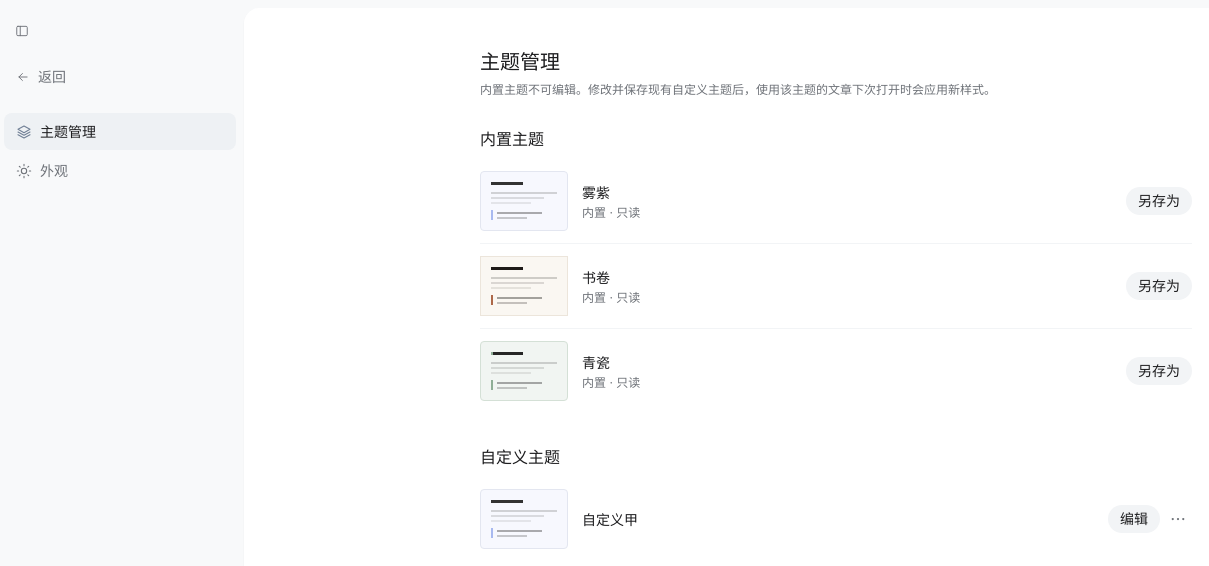
Test: 主题列表 › 另存为进入新建页并携带来源
Click the button "另存为" in the row of "雾紫". click: [1159, 201]
box: [1126, 187, 1192, 215]
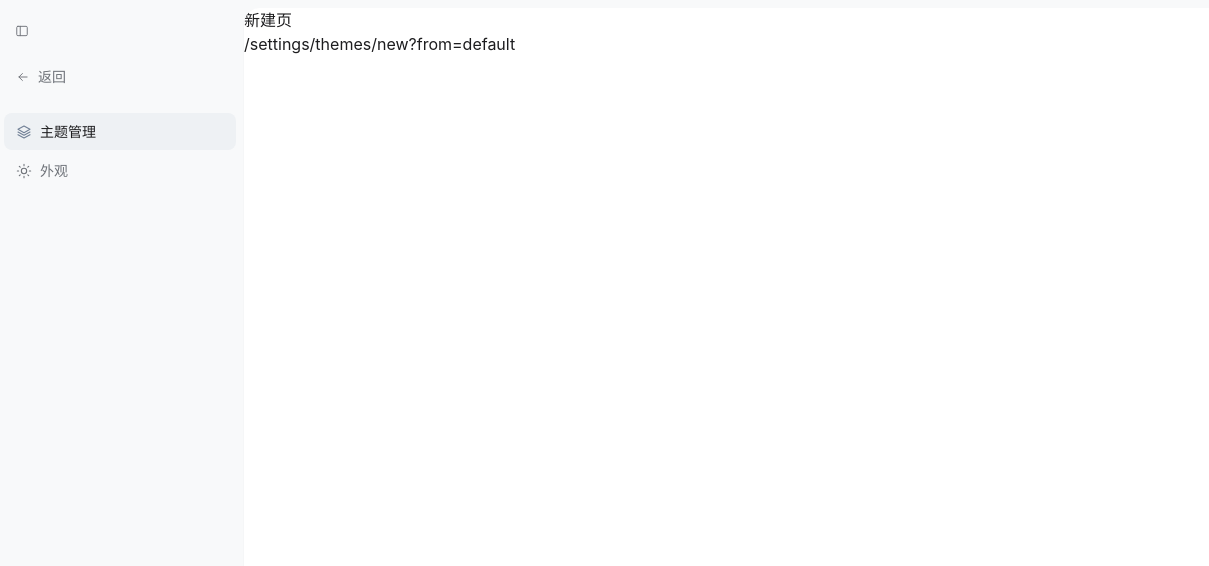
Check: the text with test id "location" reads "/settings/themes/new?from=default", box [244, 34, 515, 54]
